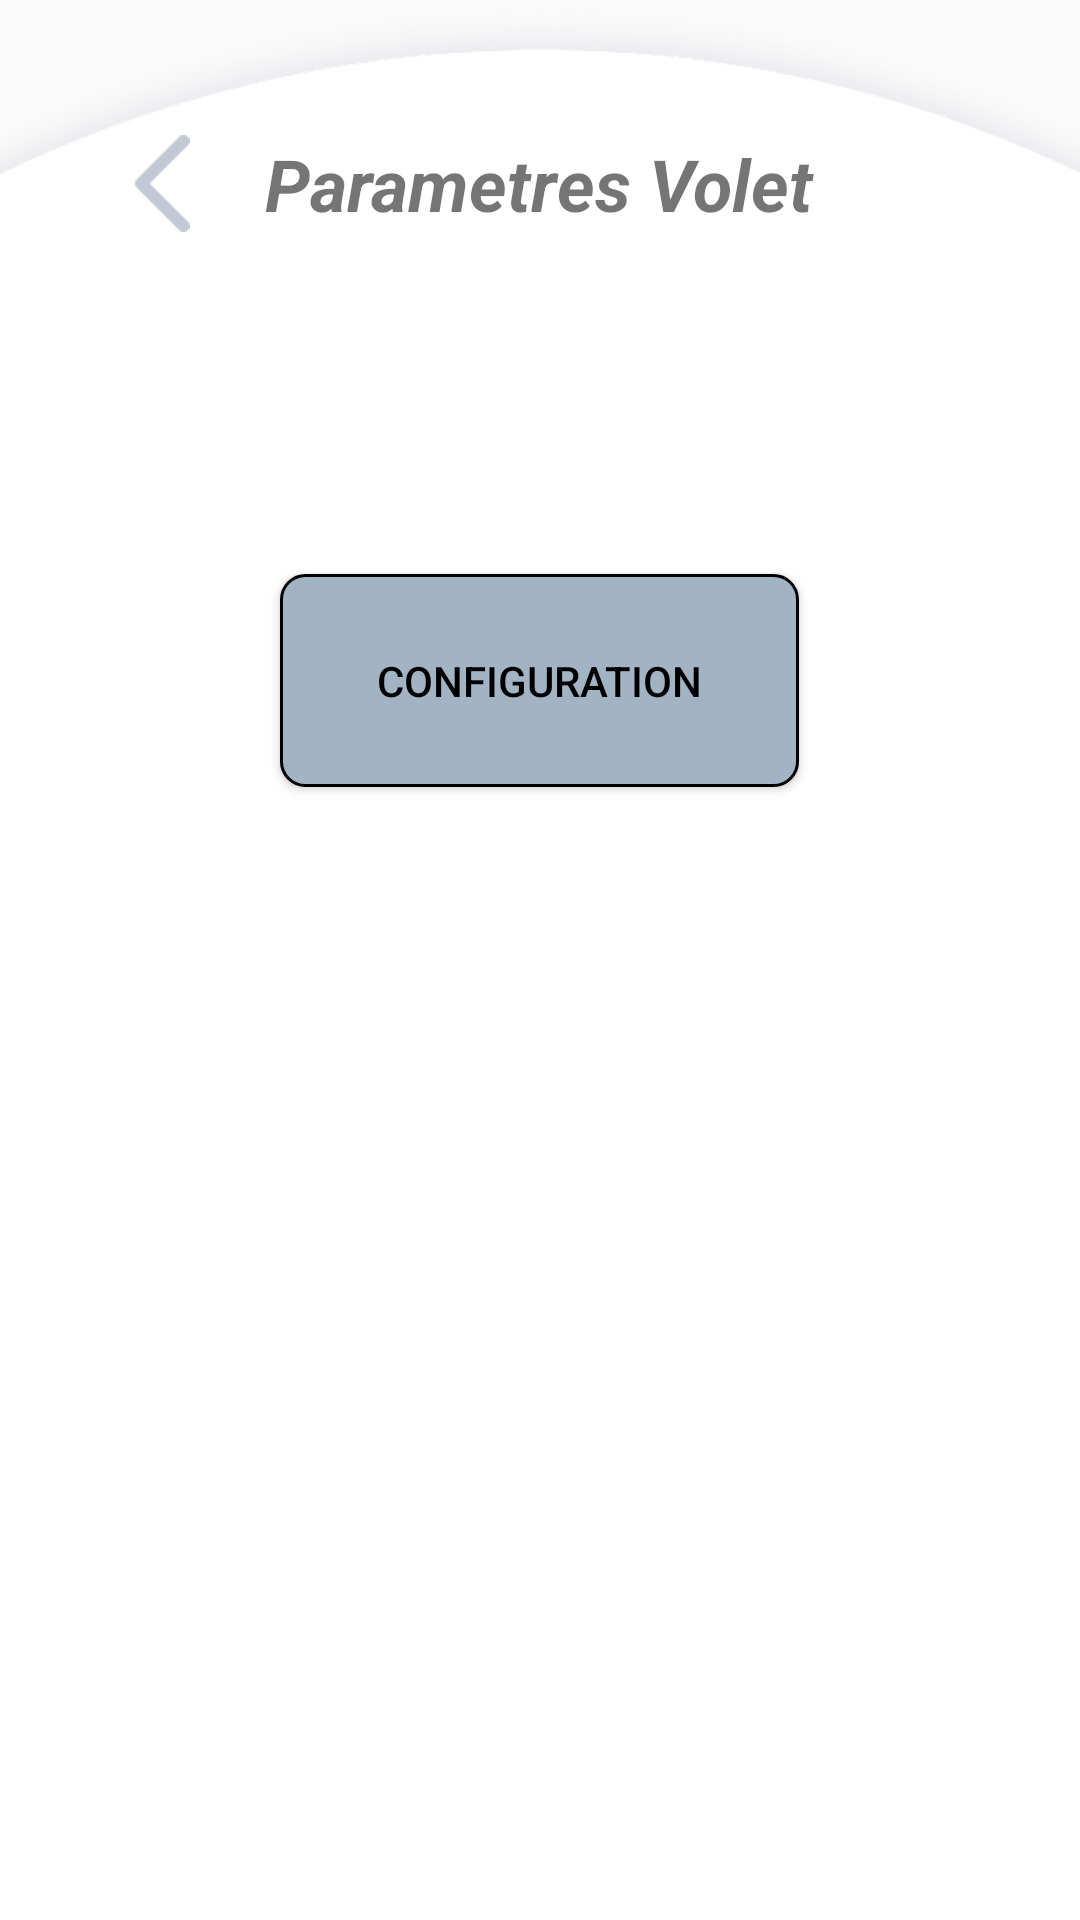

Named icons in this screenshot (1080px×1920px) and their centers, (x,y):
btnback: (162,183)
